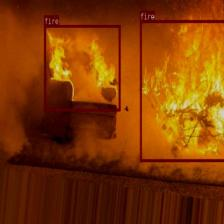fire: (139, 19, 224, 161), (44, 24, 120, 111)
